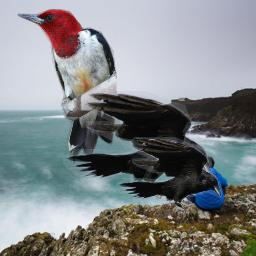Crow: (63, 91, 212, 199), (116, 137, 222, 214)
Woodpecker: (17, 8, 117, 167)
